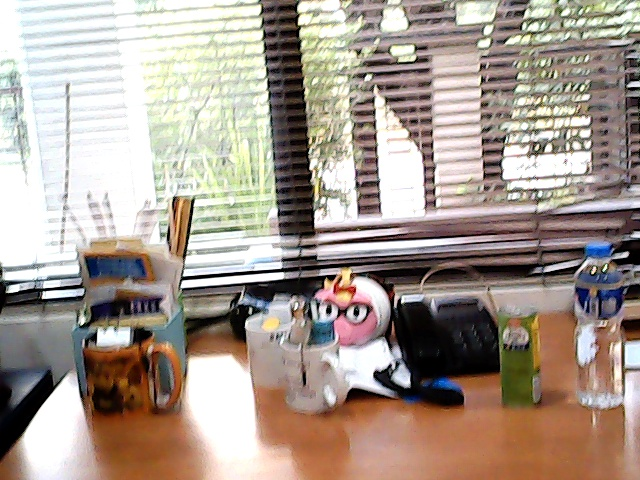Pine Juice: (484, 298, 551, 418)
Summit Water: (564, 235, 640, 426)
